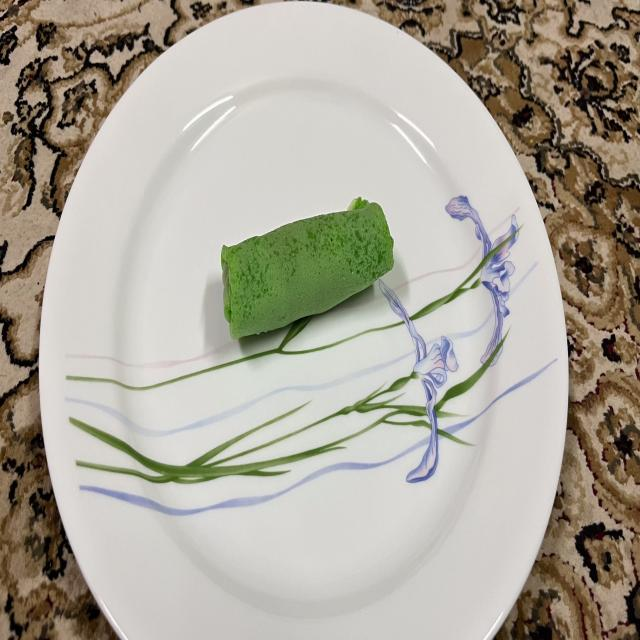Kuih-Ketayap: (221, 200, 394, 340)
